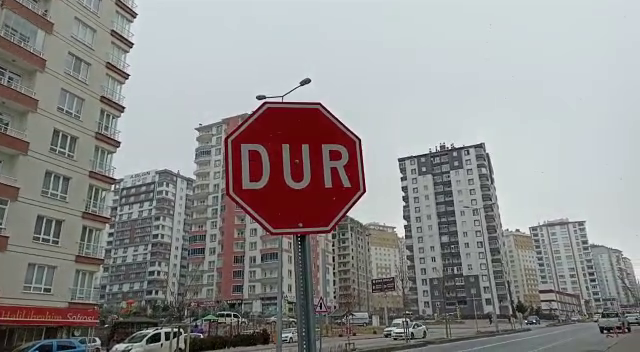stop: (220, 99, 372, 239)
